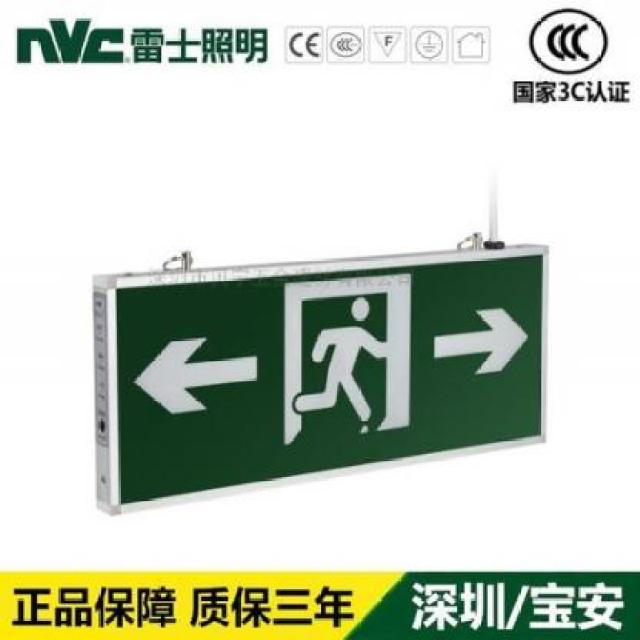exit_sign: (88, 260, 572, 486)
